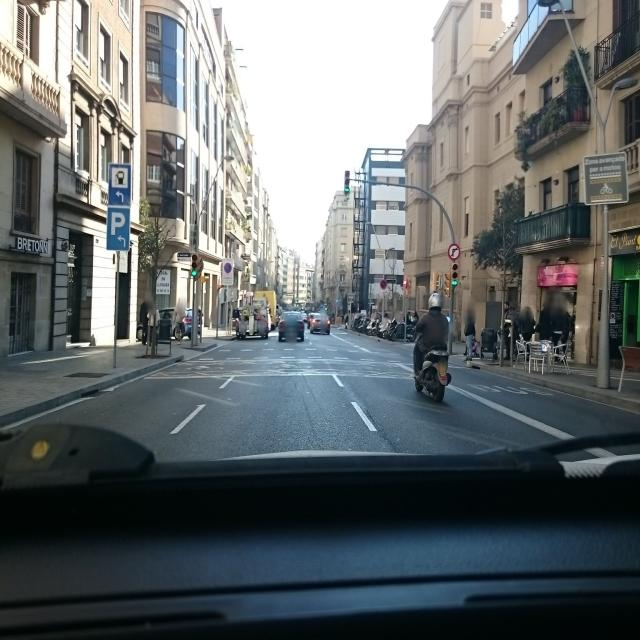bike: (411, 328, 452, 404), (391, 320, 416, 343), (381, 320, 392, 338), (367, 318, 376, 337), (358, 316, 368, 332), (372, 319, 381, 336), (352, 316, 362, 331)
car: (155, 306, 200, 341), (234, 304, 269, 340), (277, 310, 305, 342), (310, 312, 330, 334)
